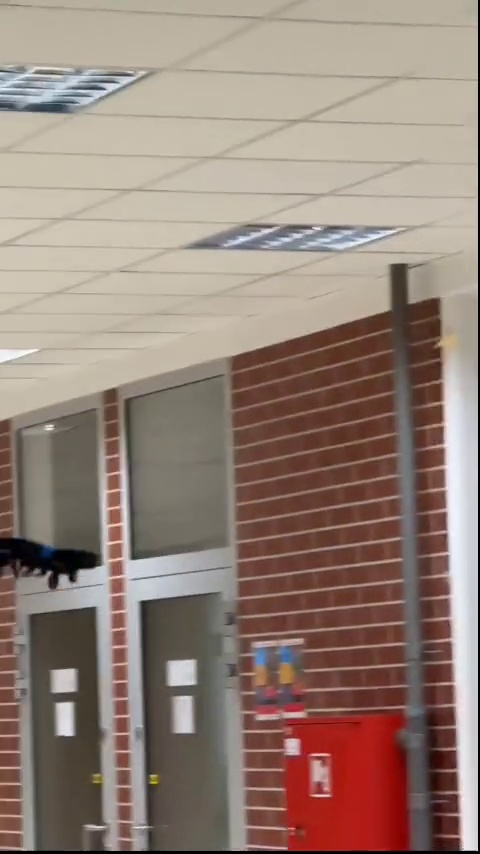drone: (0, 534, 104, 592)
